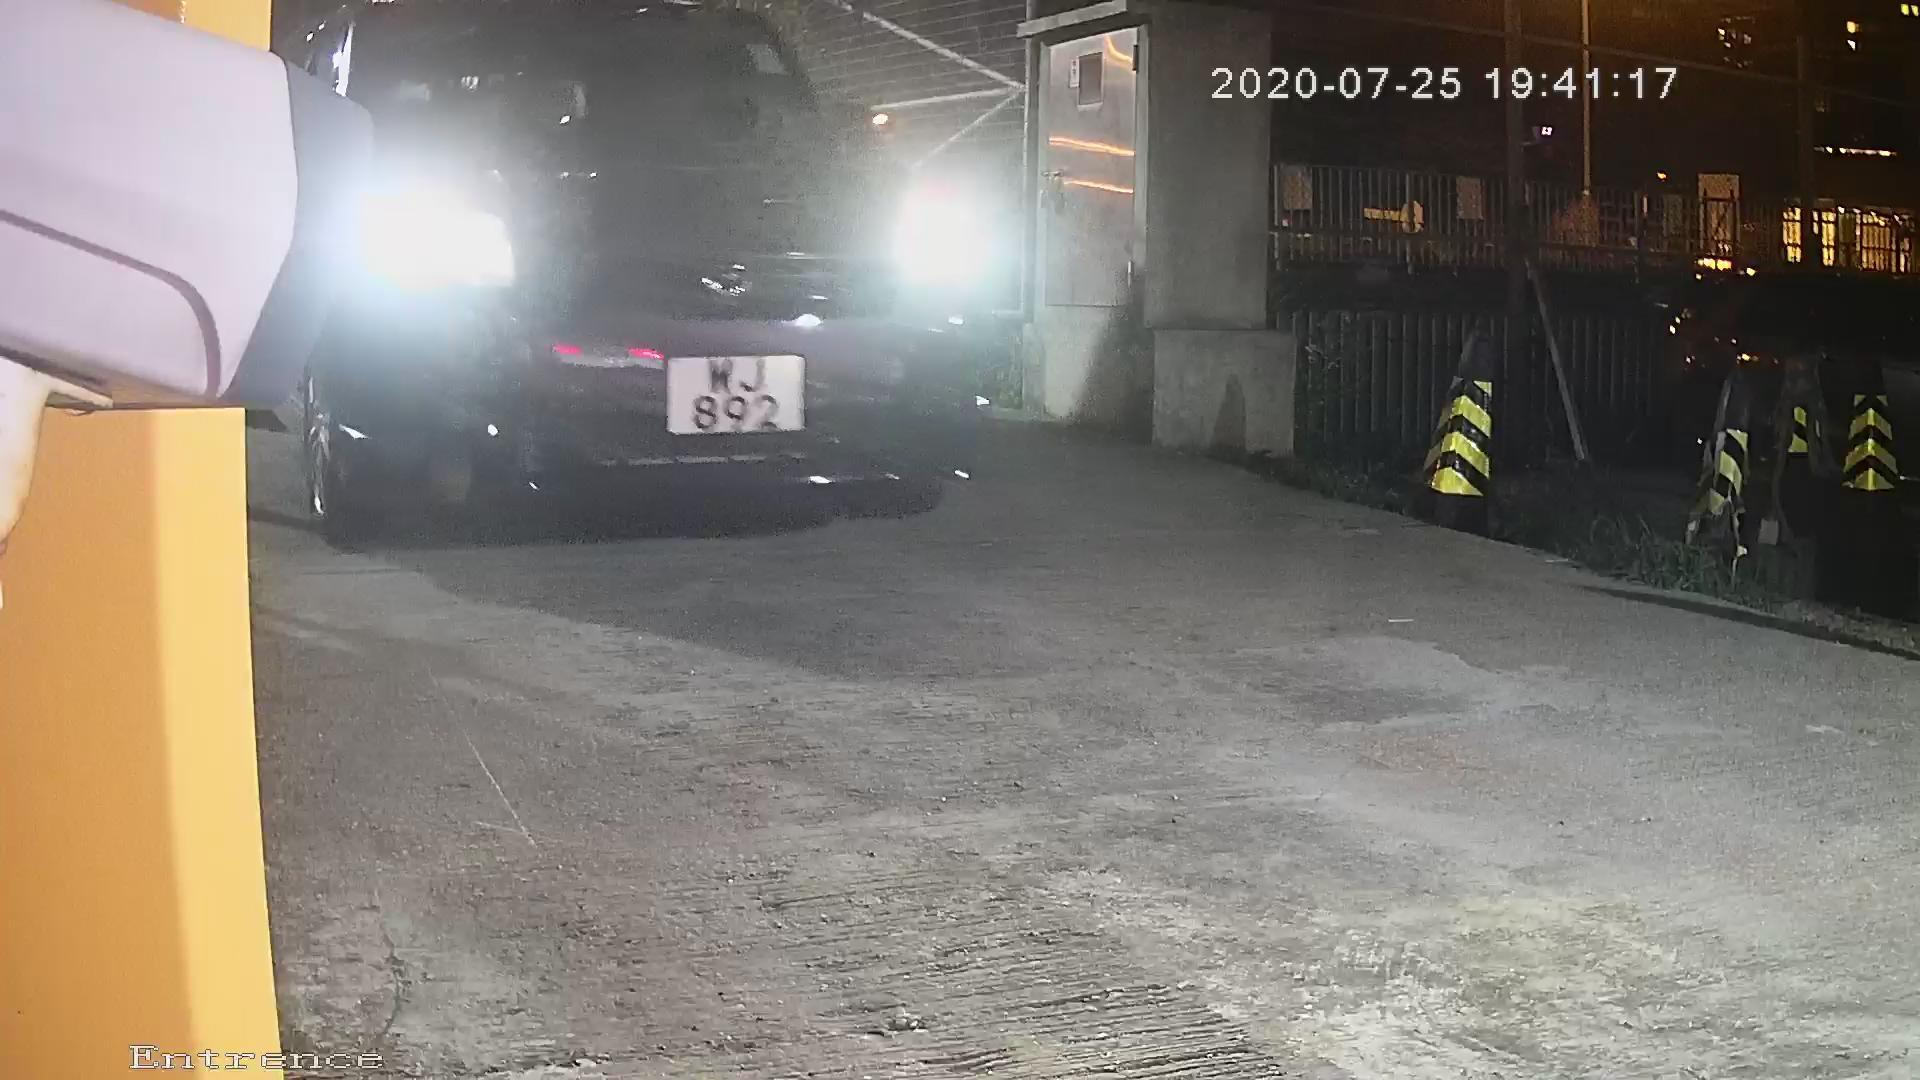privatecar: (189, 1, 1106, 584)
